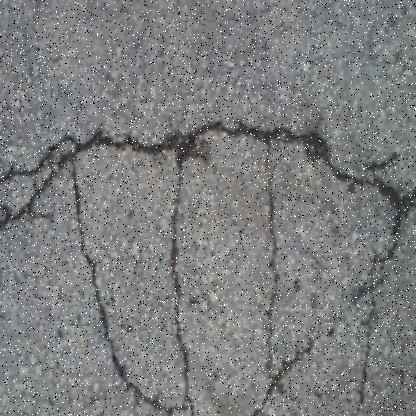Cracks: (0, 112, 415, 250), (232, 116, 415, 415), (68, 122, 200, 416)
